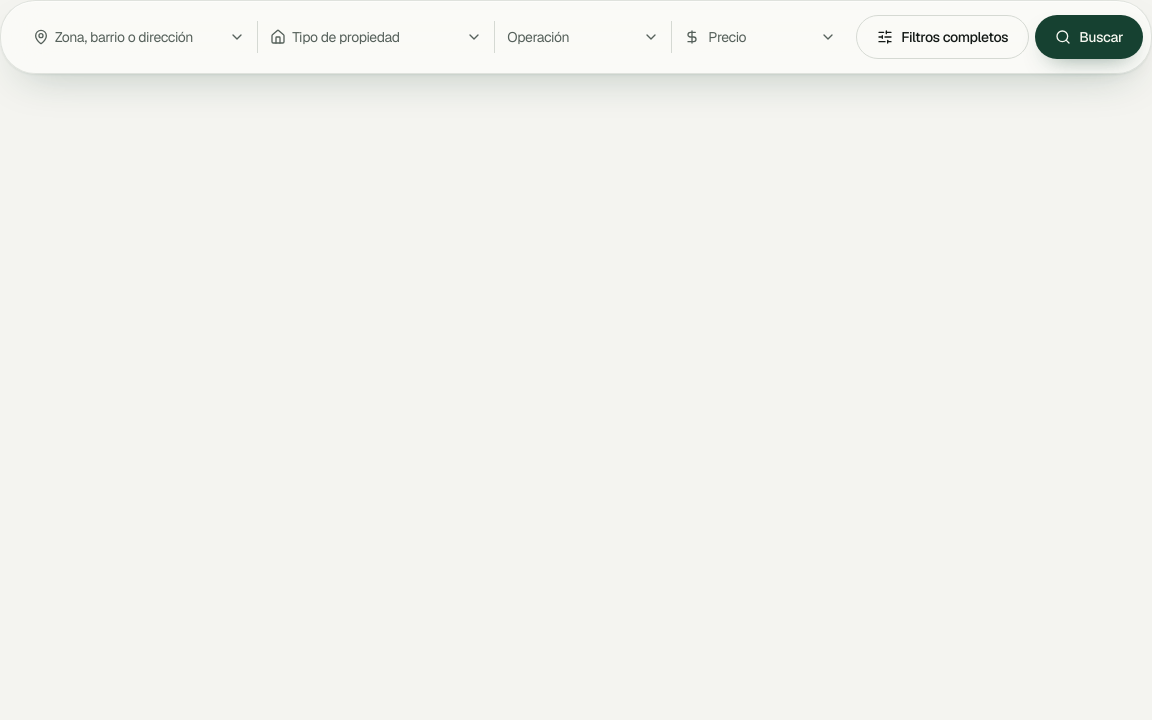
Test: SearchResultsFilterBar › opens the advanced filters modal when Filtros completos is clicked
Click the button with test id "filter-bar-advanced" at (943,37), box [856,15,1029,59]
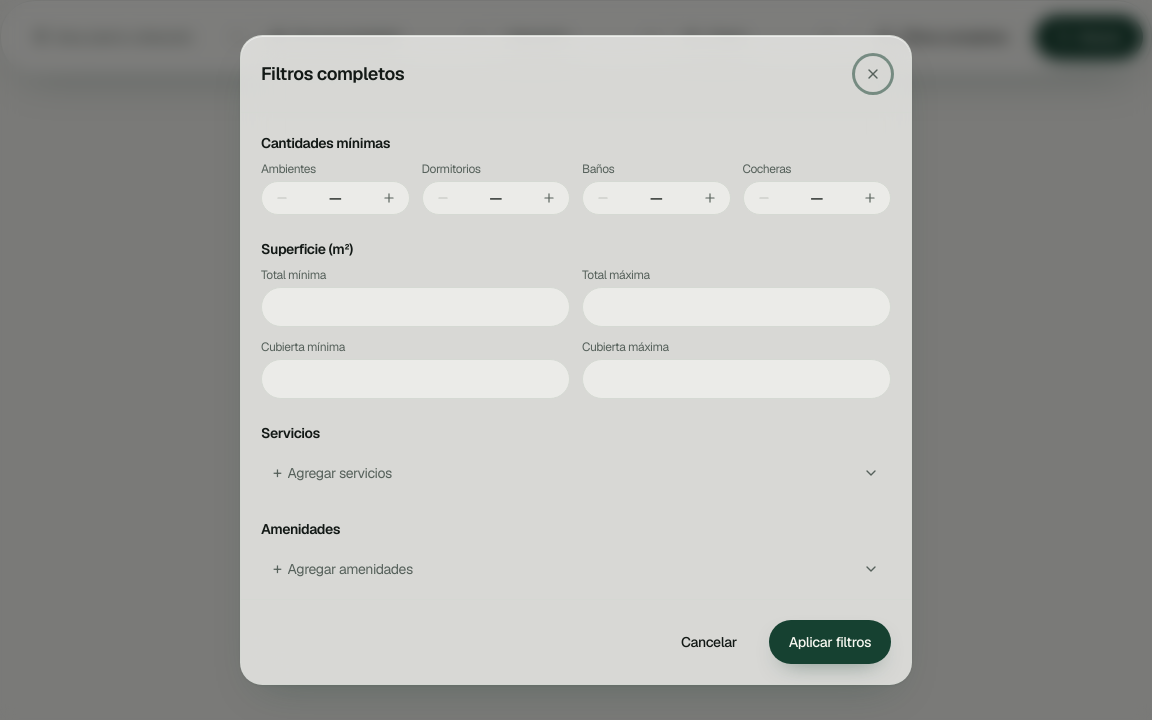
Expected: the dialog is shown, [240,35,912,685]
Expected: the heading "Filtros completos" is shown, [261,60,404,88]
Expected: the button with test id "adv-apply" is shown, [769,620,891,664]
